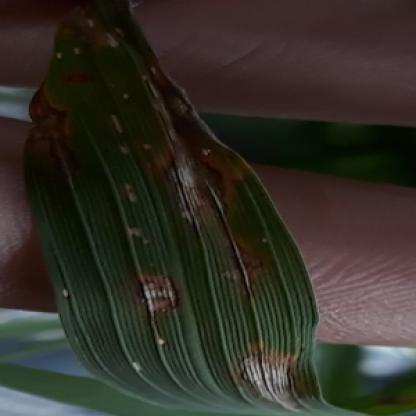Rice blast: (144, 75, 285, 301), (16, 71, 83, 171), (235, 335, 305, 416), (134, 270, 176, 328)
